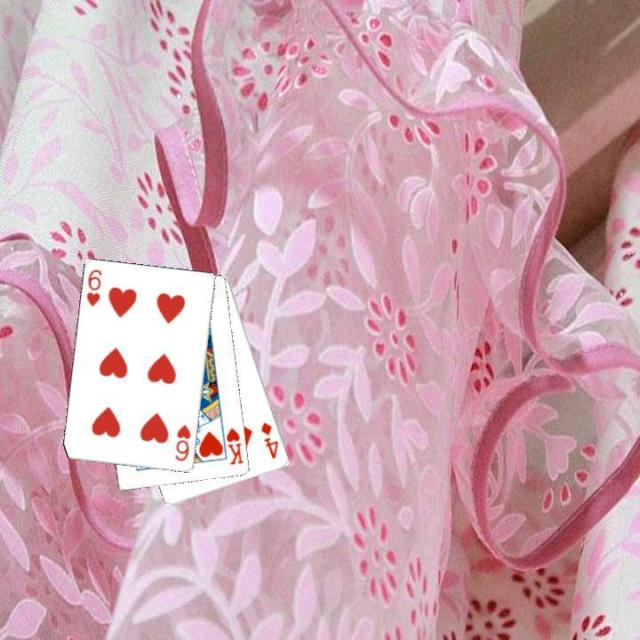4D: (257, 418, 280, 461)
6H: (171, 421, 193, 463), (83, 266, 104, 308)
KH: (222, 424, 245, 467)
